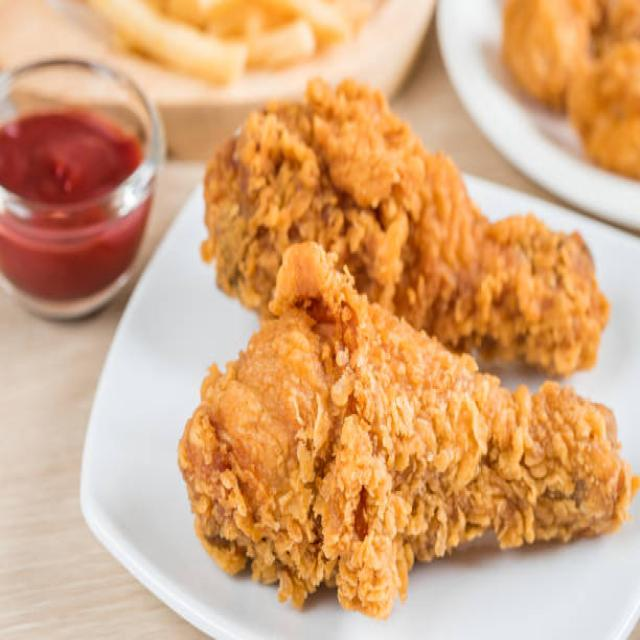Frango: (180, 72, 640, 610), (500, 0, 640, 185)
